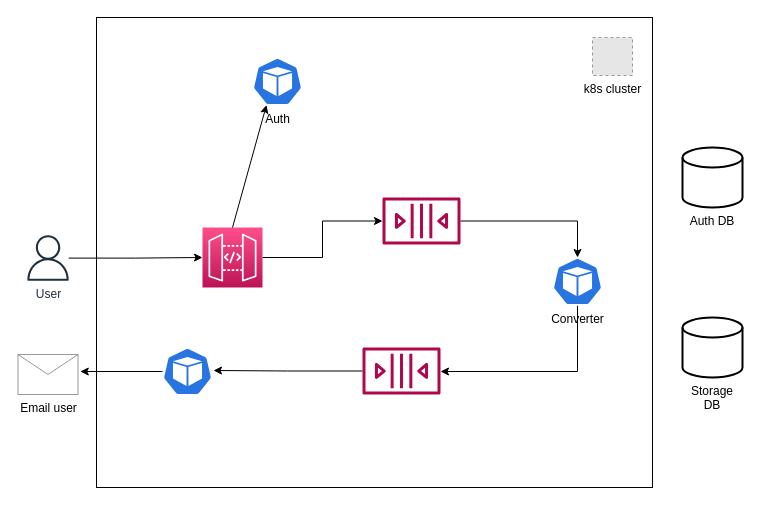
The diagram is 760 pixels wide and 505 high, and some of its shapes have lost their labels. Grey dashed boxes stand in for pictures. Here are the shapes that lost their labels. From the top down, the centre of each, then its label:
At (x=421, y=220): "video queue".
At (x=232, y=257): "Gateway".
At (x=187, y=371): "Notifier".
At (x=401, y=370): "mp3 queue".
